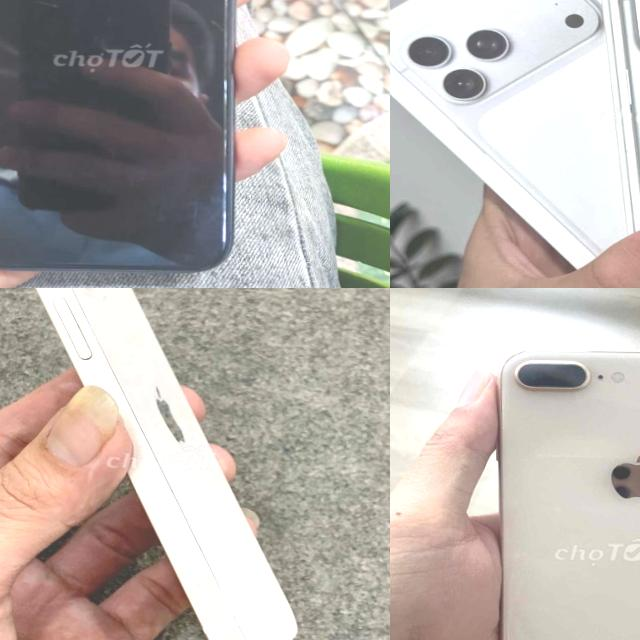scratch: (209, 0, 238, 252)
